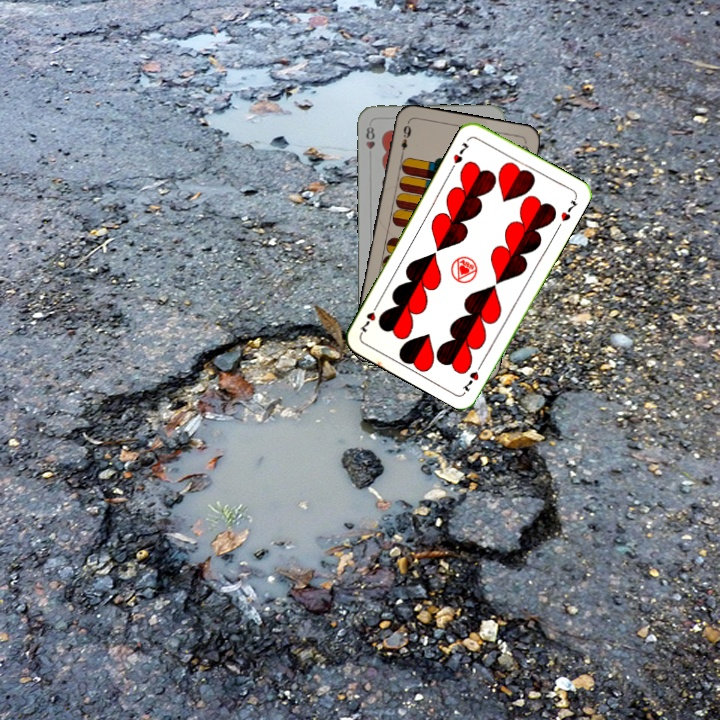E9: (397, 119, 414, 159)
H7: (458, 358, 485, 394), (449, 138, 472, 166)
H8: (361, 122, 377, 151)
